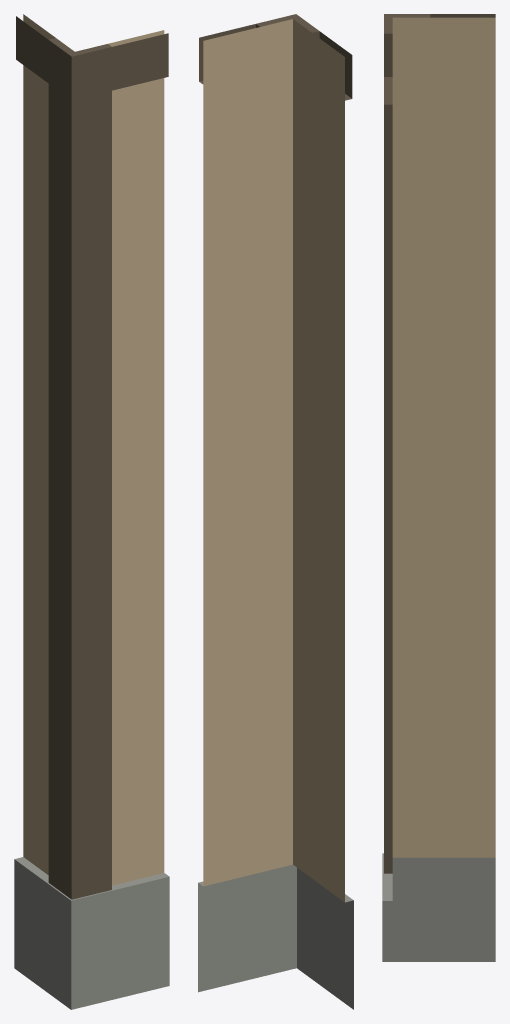
3 views of the same model, side by side, from view 1: azimuth 30°, elevation 25°; view 2: azimuth 210°, elevation 25°; view 3: azimuth 270°, elevation 25° (orthographic).
Parts seen in each view (by area): view 1: a2015/0/base-c1; view 2: a2015/0/base-c1; view 3: a2015/0/base-c1.
Boxes of the visible parts, x1,y1,x2,y2 form: a2015/0/base-c1: (14,14,169,1009); a2015/0/base-c1: (198,14,353,1009); a2015/0/base-c1: (382,14,495,961).
Size of the model in its own units: 0.33 by 3.05 by 0.33.
